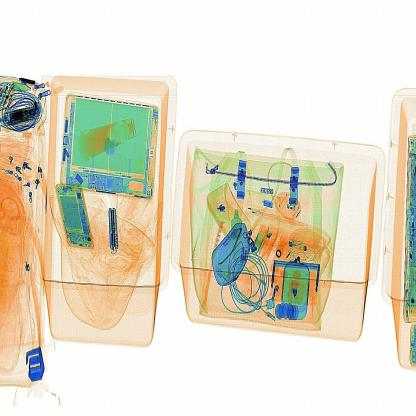scissors: (102, 203, 130, 258)
